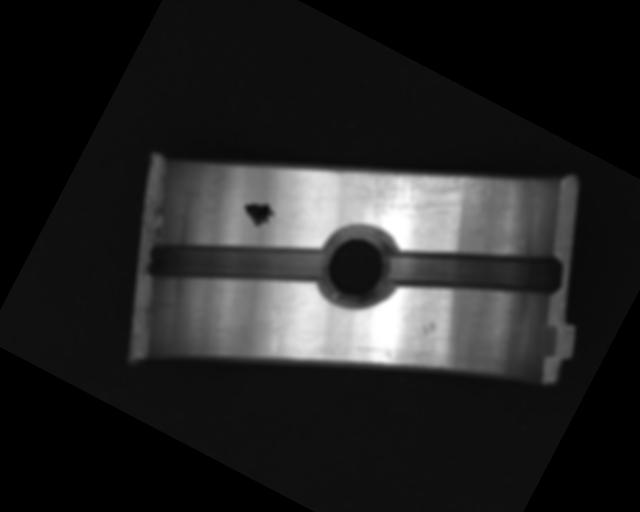blot: (237, 193, 280, 233)
bruise: (416, 316, 439, 340)
gap: (142, 182, 329, 343), (385, 192, 569, 347)
hole: (307, 212, 411, 320)
nick: (247, 296, 297, 354)
scratch: (336, 118, 494, 257)
